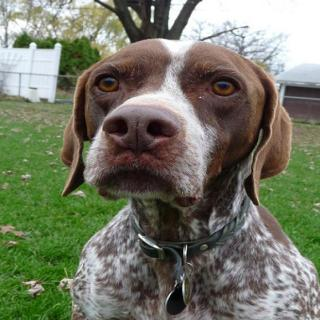dog: (43, 36, 295, 216)
nose: (96, 107, 184, 155)
